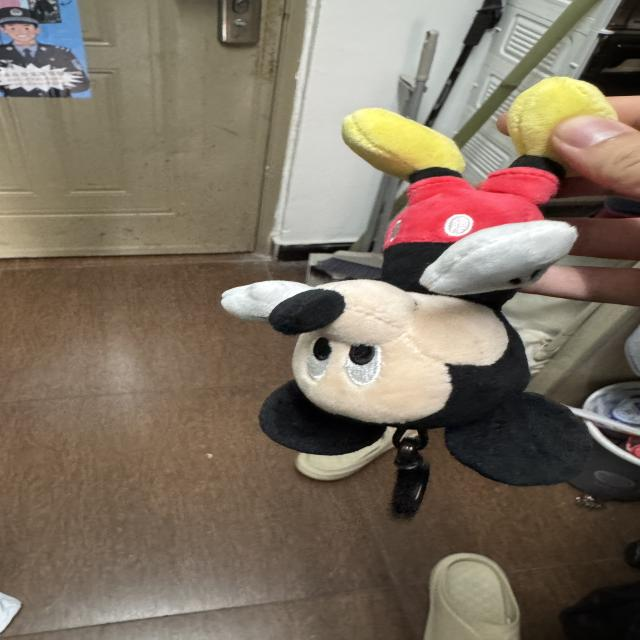mickey: (223, 78, 615, 485)
